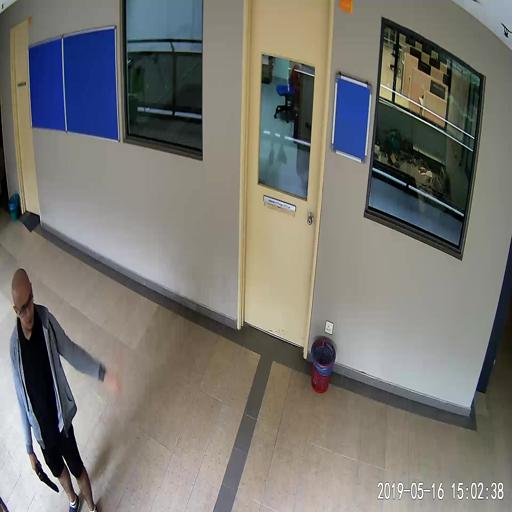pistol: (33, 459, 57, 490)
